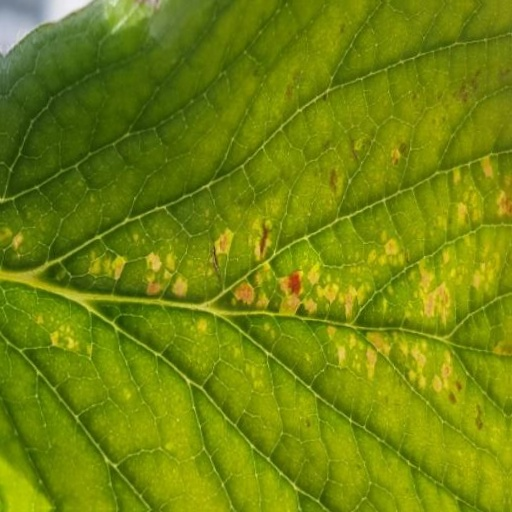Angular Leafspot: (0, 55, 511, 437)
